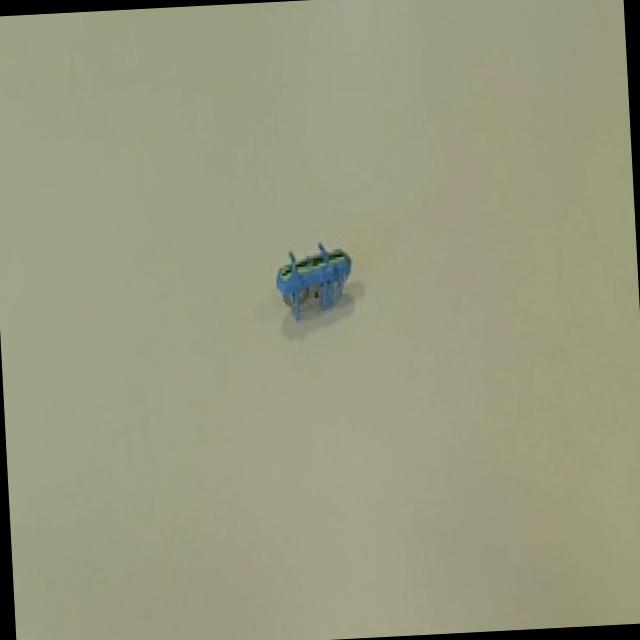3_NanoBug_Celeste: (254, 224, 380, 366)
